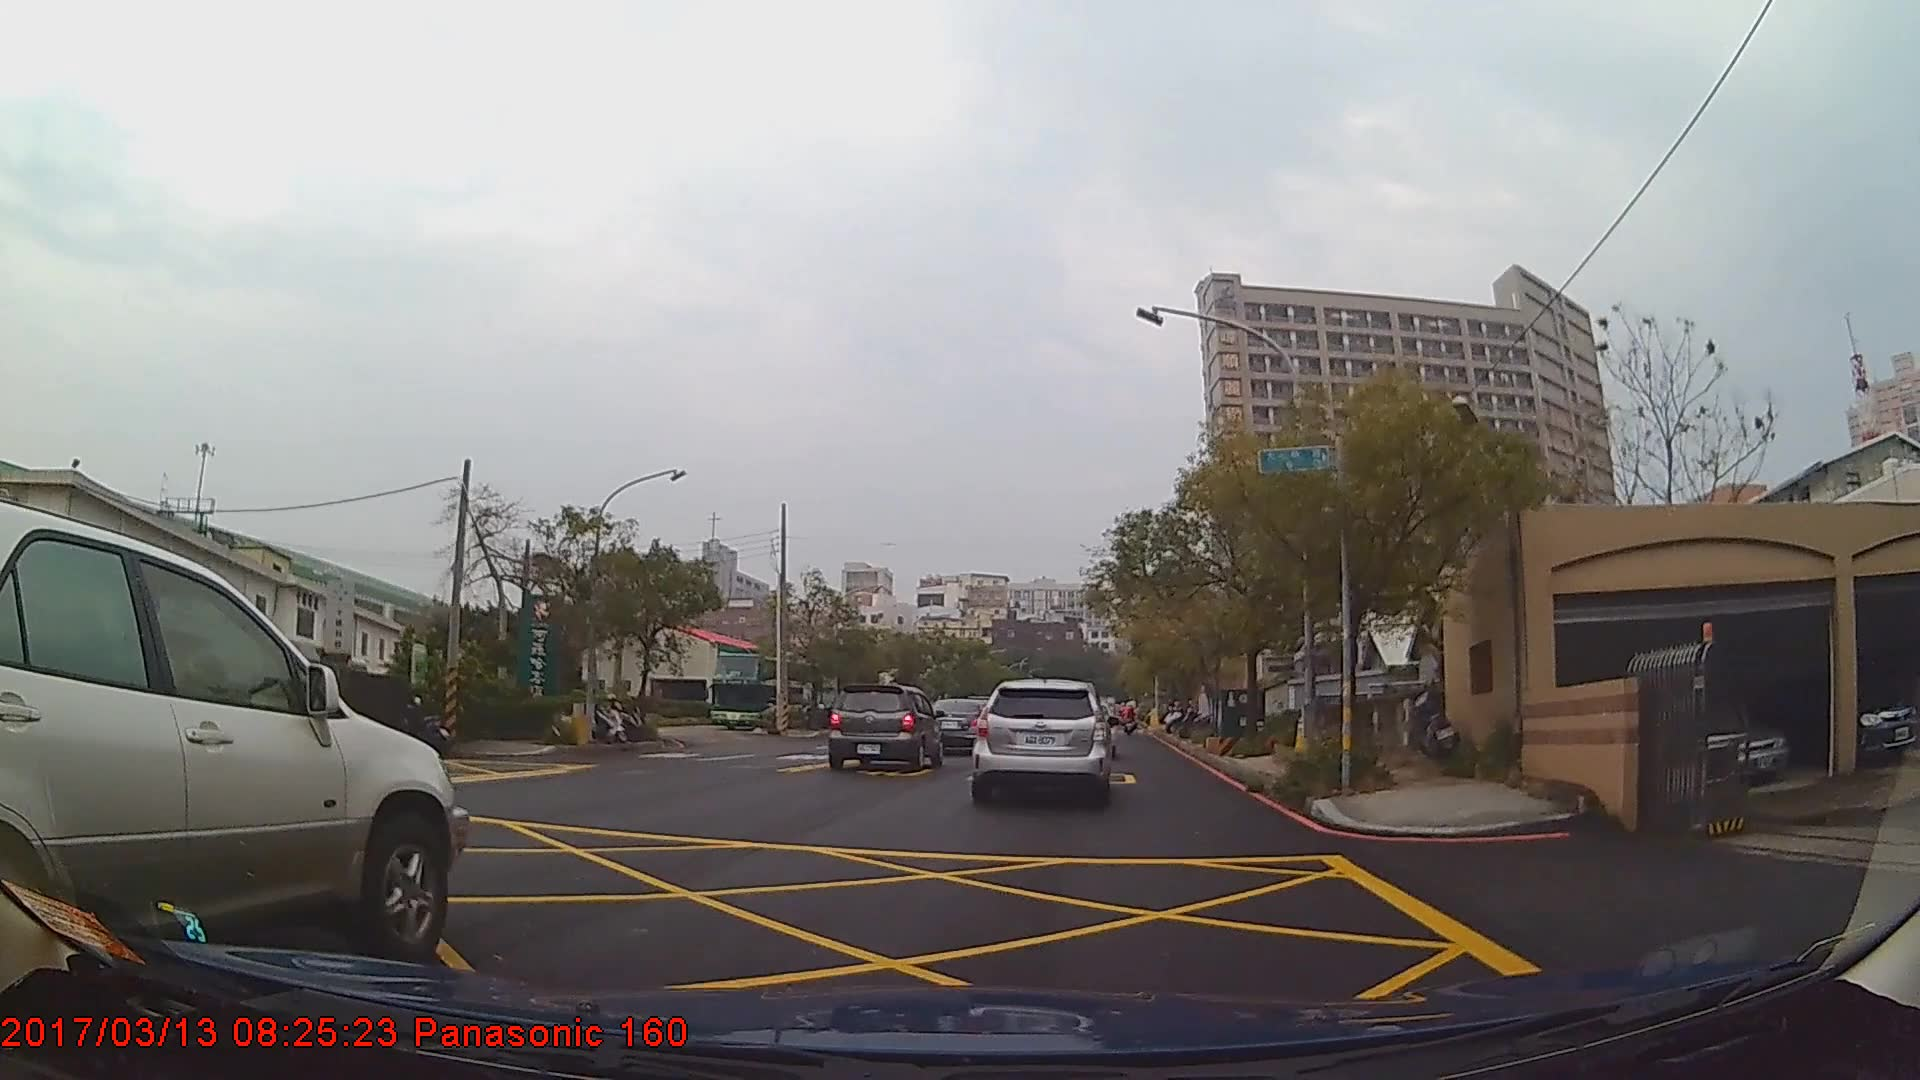vehicle: (0, 498, 467, 1000), (971, 673, 1113, 802), (1660, 698, 1792, 787), (825, 680, 943, 769), (709, 650, 823, 731), (924, 694, 996, 752)
